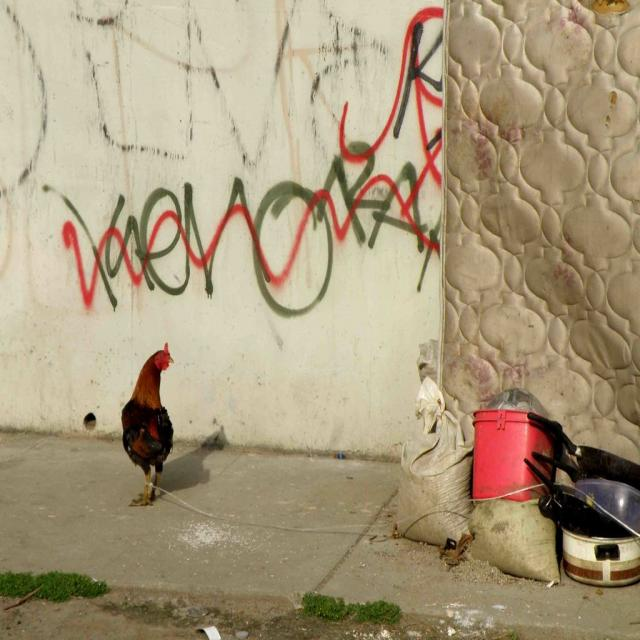Chicken: (119, 341, 174, 504)
